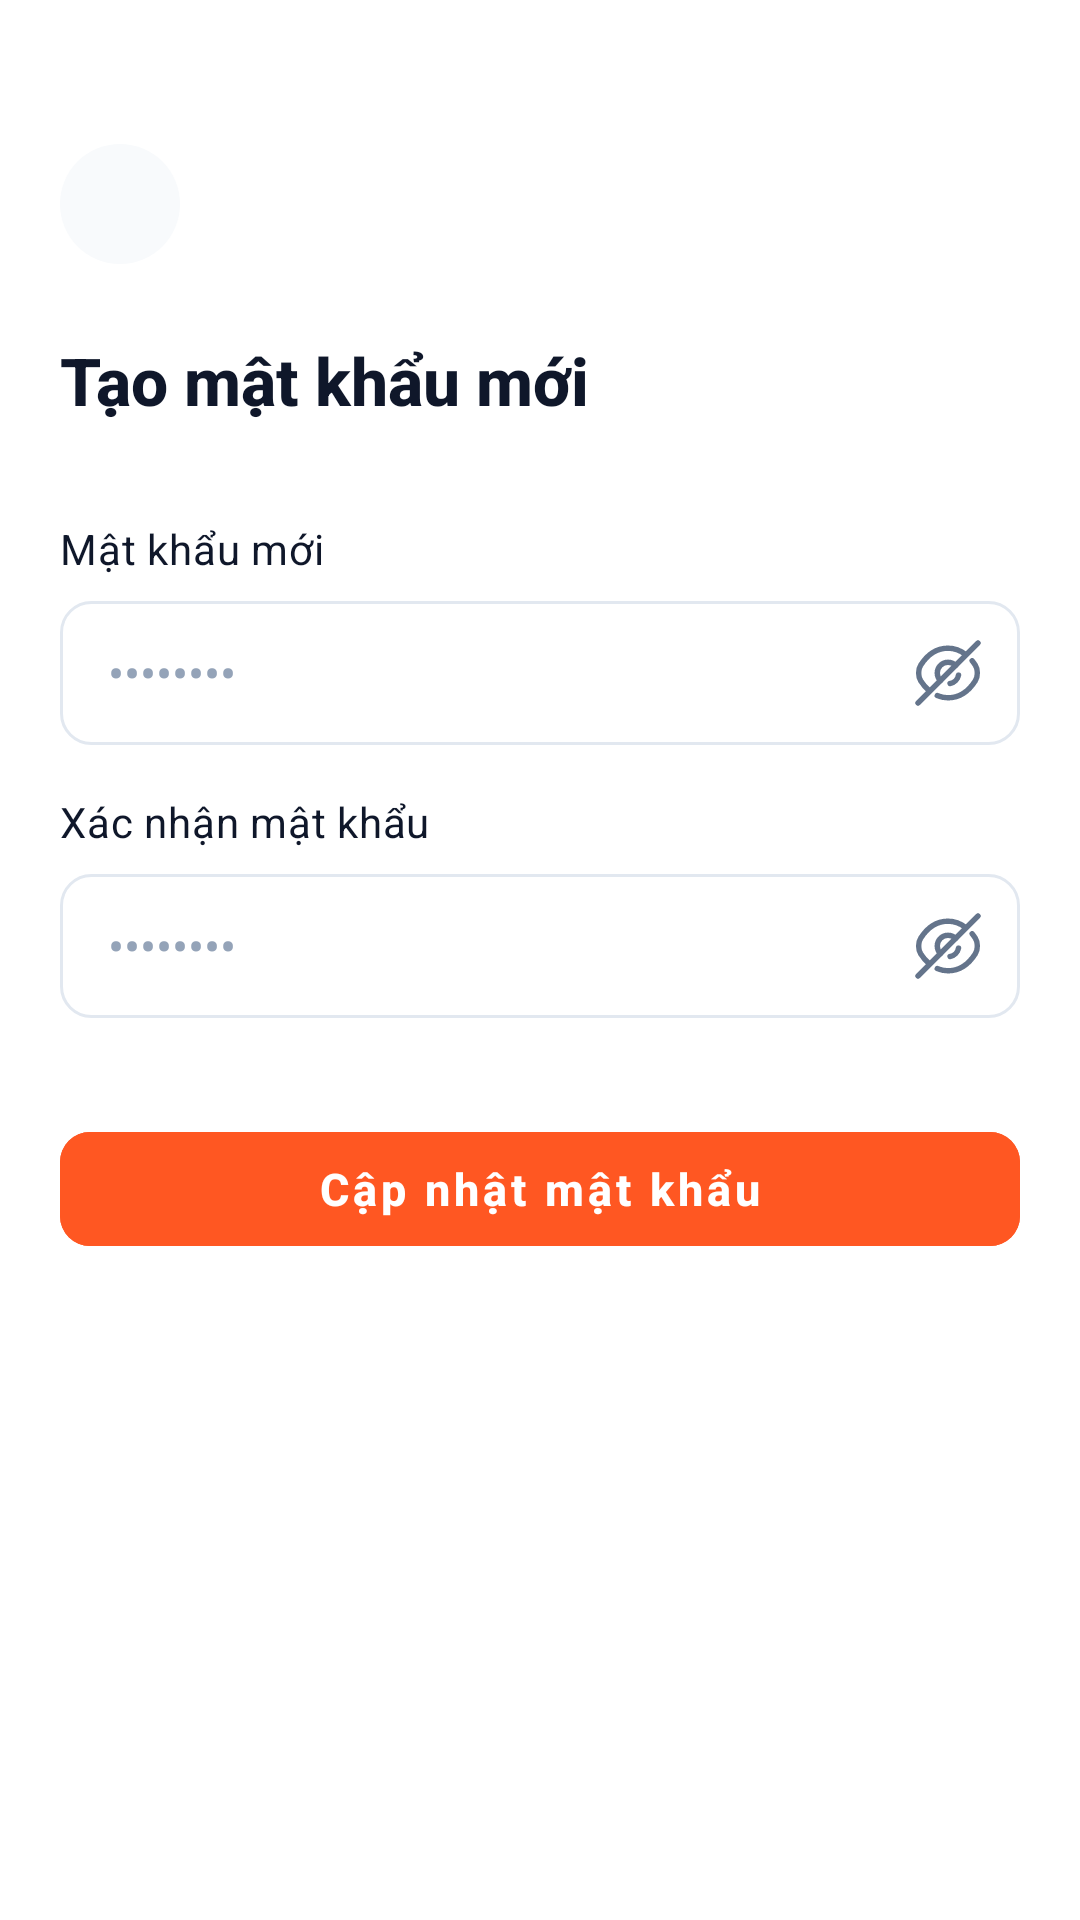

Screen size 1080 × 1920. Icon name, then its center in pixels as point (x, y):
Ẩn/hiện mật khẩu: point (948, 673), point (948, 946)
